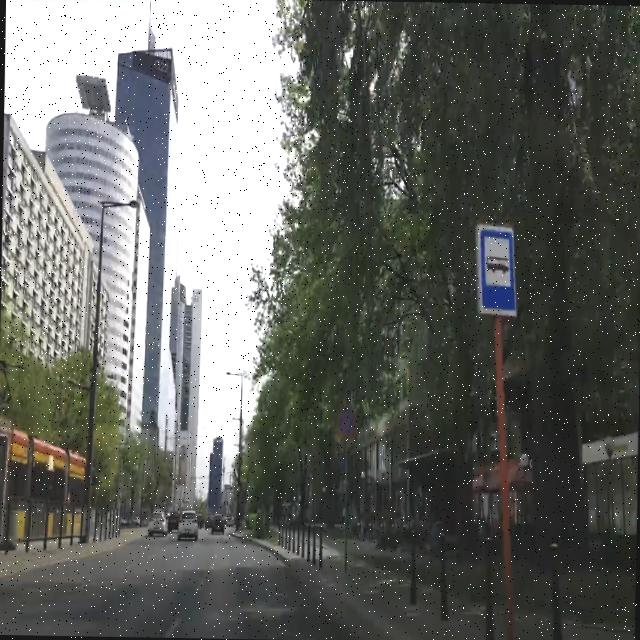Zakaz zatrzymywania sie: (336, 402, 356, 440)
